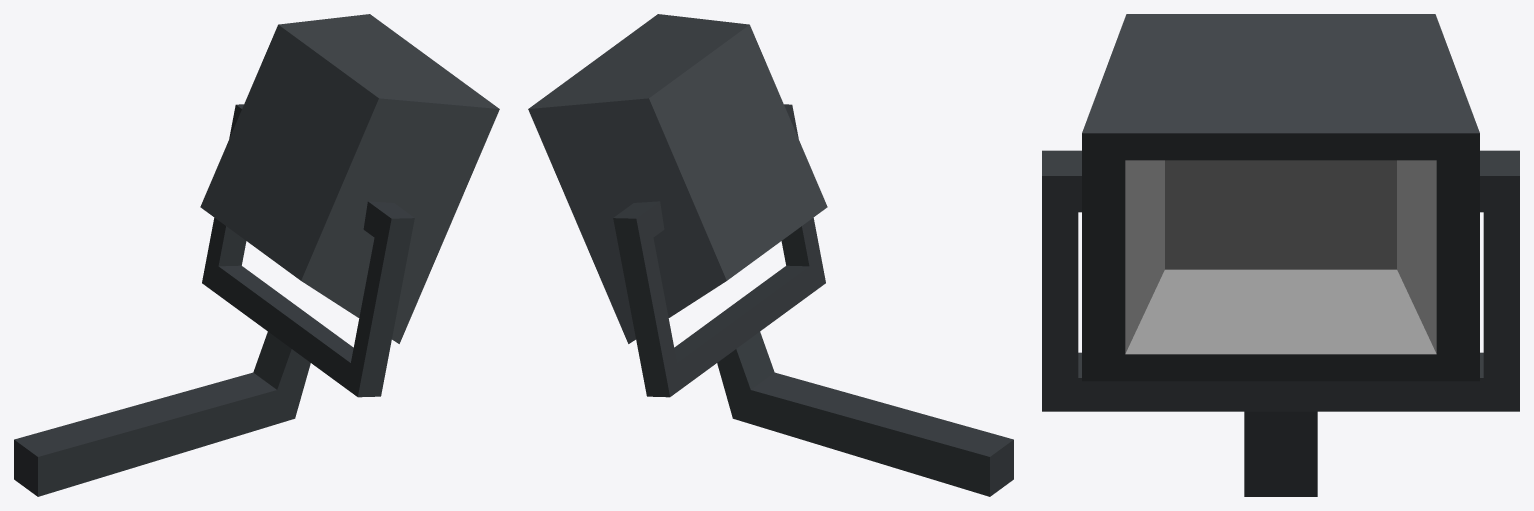
File: SM_Prop_Pole_Large_Lights_04.fbx
3 renders of one model, left to right at view 1: azimuth 30°, elevation 25°; view 2: azimuth 150°, elevation 25°; view 3: azimuth 270°, elevation 25°, orthographic. The views are drawn at different scales.
Parts seen in each view (by area): view 1: SM_Prop_Pole_Large_Lights_04; view 2: SM_Prop_Pole_Large_Lights_04; view 3: SM_Prop_Pole_Large_Lights_04.
Boxes of the visible parts, x1,y1,x2,y2 form: SM_Prop_Pole_Large_Lights_04: (14, 14, 499, 496); SM_Prop_Pole_Large_Lights_04: (528, 14, 1013, 496); SM_Prop_Pole_Large_Lights_04: (1042, 14, 1519, 496).
Bounding box in the file's own units: 135 × 112 × 89.44.
